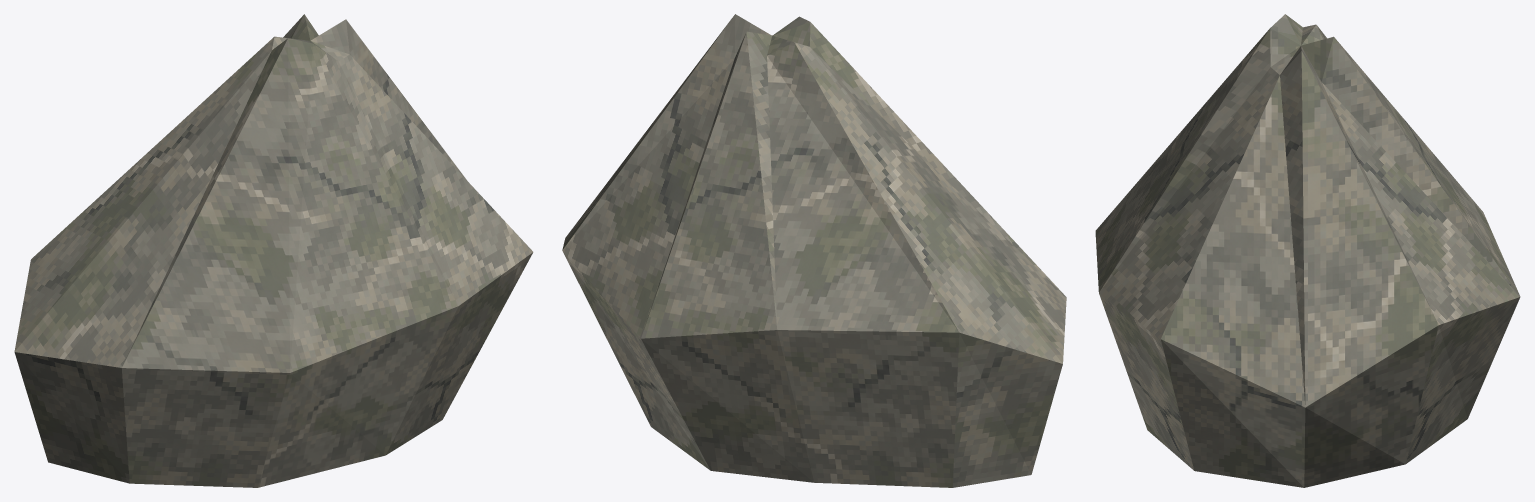
File: Masso_04_Cuneo.obj
3 views of the same model, side by side, from view 1: azimuth 30°, elevation 25°; view 2: azimuth 150°, elevation 25°; view 3: azimuth 270°, elevation 25° (orthographic). The views are drawn at different scales.
Visible parts, largest first — view 1: Masso_04_Cuneo; view 2: Masso_04_Cuneo; view 3: Masso_04_Cuneo.
Boxes of the visible parts, x1=… form: Masso_04_Cuneo: x1=14, y1=14, x2=533, y2=487; Masso_04_Cuneo: x1=562, y1=14, x2=1066, y2=487; Masso_04_Cuneo: x1=1095, y1=14, x2=1520, y2=487.
Bounding box in the file's own units: 1.9 × 1.4 × 1.35.
Materials: 1 (1 with a texture image).
